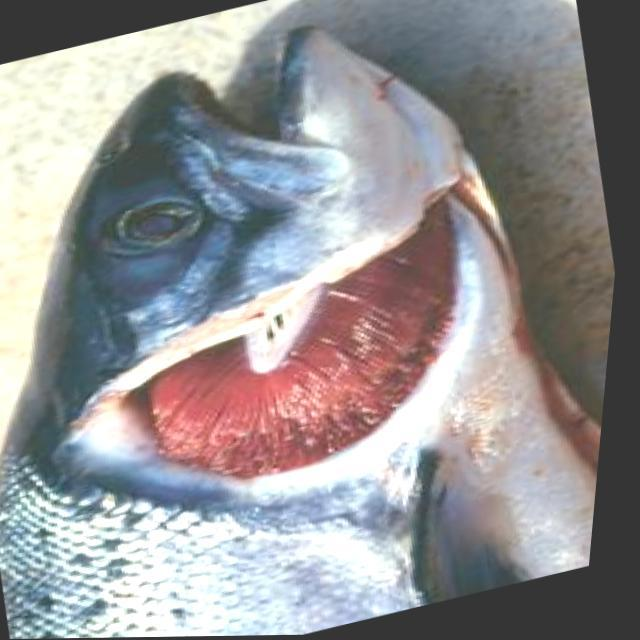Gill Disease: (16, 153, 575, 540)
